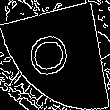O_E: (29, 28, 81, 82)
